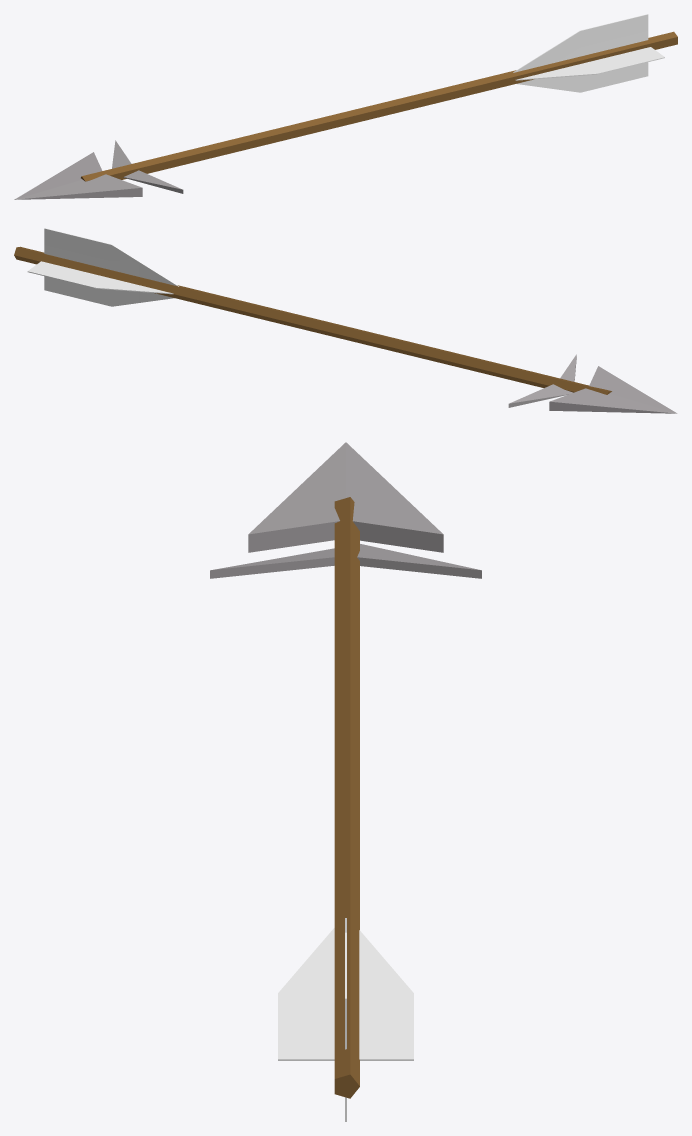
The model's file is arrow.obj.
3 renders of one model, top to bottom at view 1: azimuth 30°, elevation 25°; view 2: azimuth 150°, elevation 25°; view 3: azimuth 270°, elevation 25°, orthographic. The views are drawn at different scales.
Parts seen in each view (by area): view 1: Cylinder, Cube.002_Cube.003, Cube_Cube.001, Cube.003_Cube.004, Cube.001_Cube.002; view 2: Cylinder, Cube.002_Cube.003, Cube_Cube.001, Cube.003_Cube.004, Cube.001_Cube.002; view 3: Cylinder, Cube.003_Cube.004, Cube_Cube.001, Cube.001_Cube.002.
Part boxes in pixels (<box>): Cylinder: <box>81,31,677,181</box>; Cube.002_Cube.003: <box>513,14,648,92</box>; Cube_Cube.001: <box>14,152,142,199</box>; Cube.003_Cube.004: <box>515,47,664,80</box>; Cube.001_Cube.002: <box>112,140,183,193</box>; Cylinder: <box>14,246,611,394</box>; Cube.002_Cube.003: <box>44,228,178,306</box>; Cube_Cube.001: <box>549,366,677,413</box>; Cube.003_Cube.004: <box>27,261,173,294</box>; Cube.001_Cube.002: <box>508,354,576,407</box>; Cylinder: <box>334,497,359,1098</box>; Cube.003_Cube.004: <box>278,928,413,1060</box>; Cube_Cube.001: <box>248,442,443,552</box>; Cube.001_Cube.002: <box>210,544,481,578</box>.
Size of the model in its own units: 29.38 by 2.62 by 5.24.
1 material, 1 textured.
